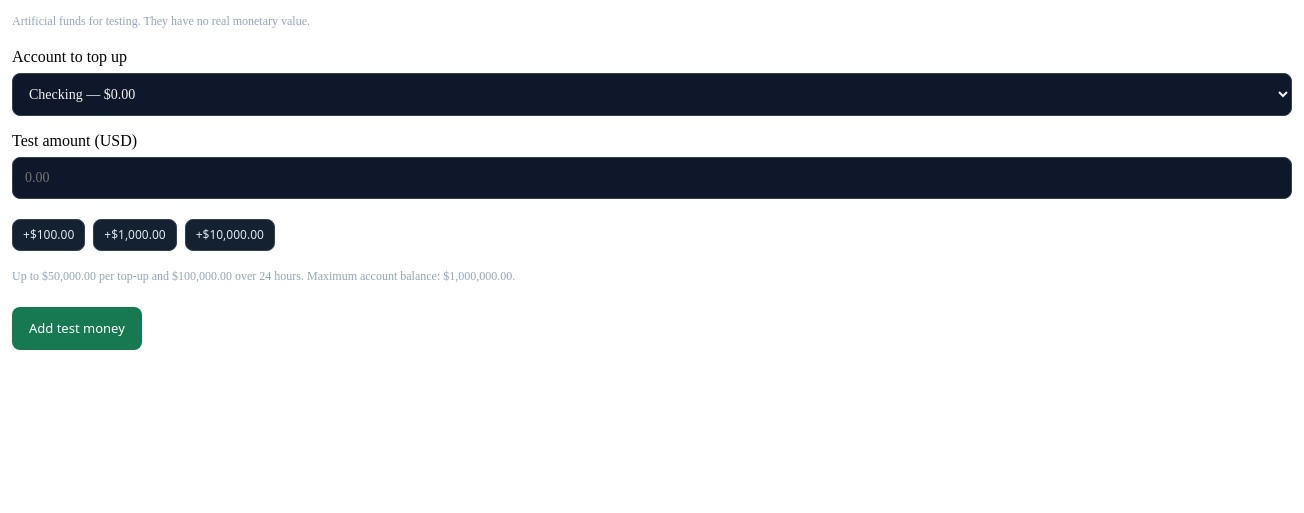
Test: blocks a different pending intent discovered at submission
The width and height of the screenshot is (1304, 513).
Type "19.99" into the field labelled "Test amount (USD)". click: (652, 178)
box: x1=12 y1=157 x2=1292 y2=199
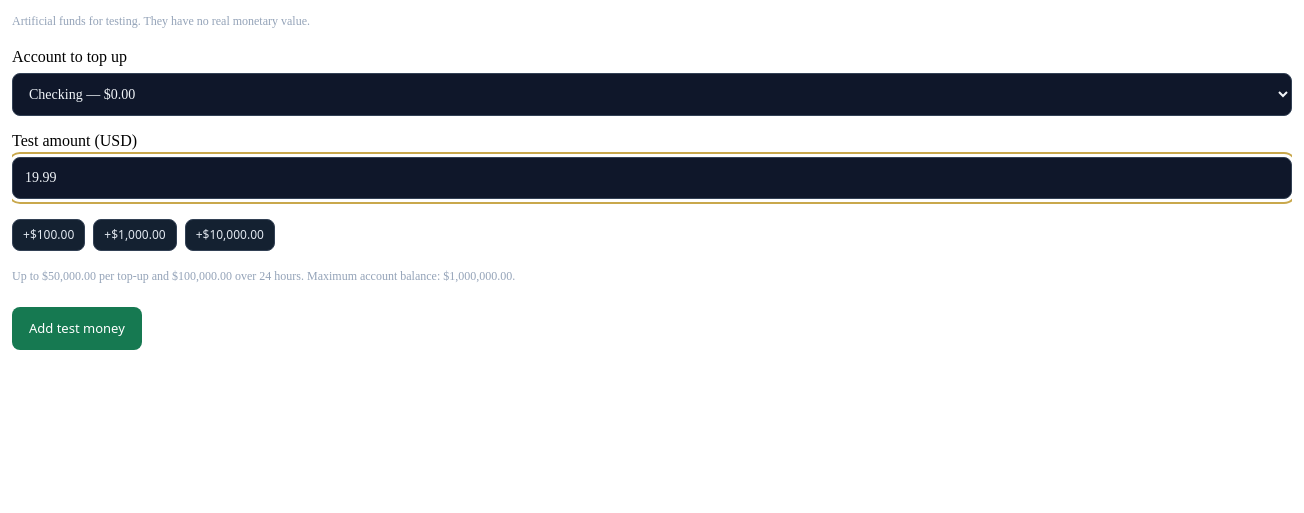
Submit the form named "Add test money"
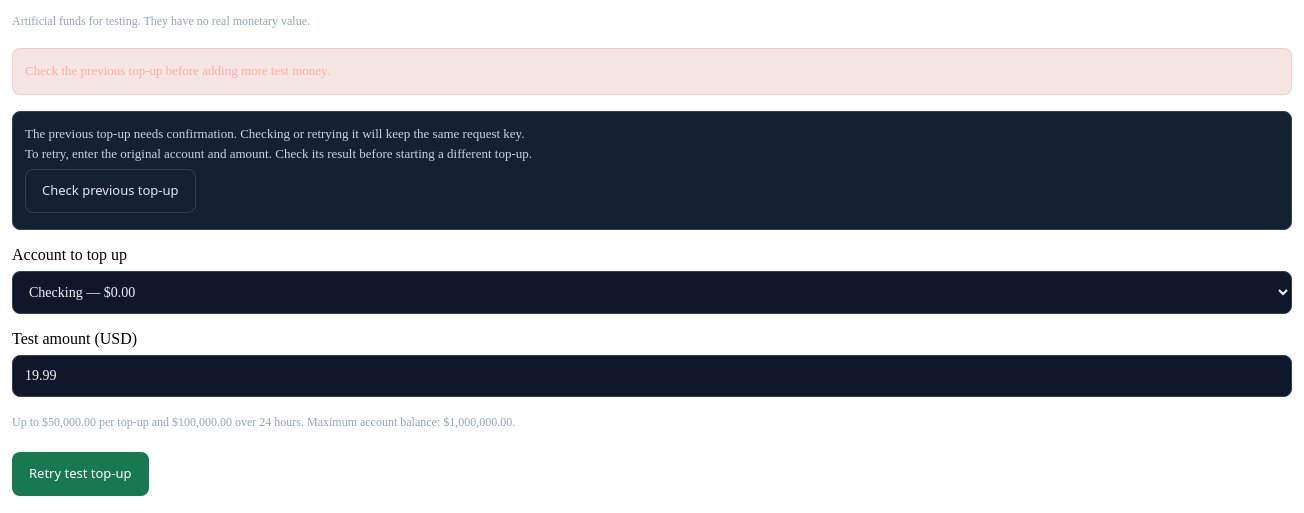
Expected: the text "Check the previous top-up before adding more test money." is shown, x1=12 y1=48 x2=1292 y2=95
